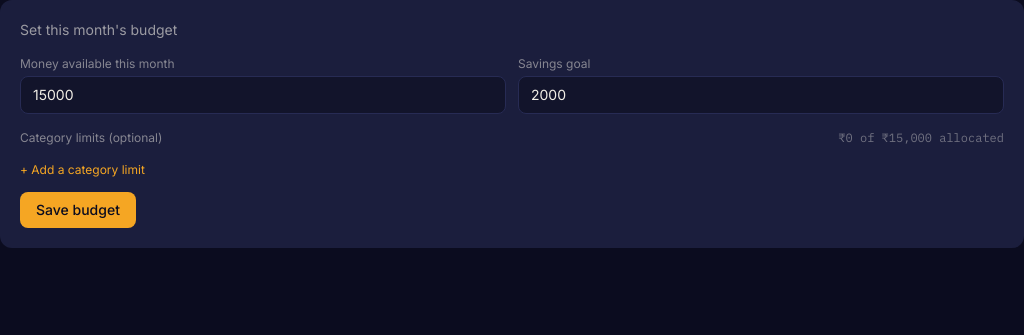
Scenario: BudgetForm › refuses category allocations that exceed the monthly budget
This screenshot has width=1024, height=335.
Replace the text in the number field labelled "Money available this month" with "5000" at (263,95), box [20,76,506,114]
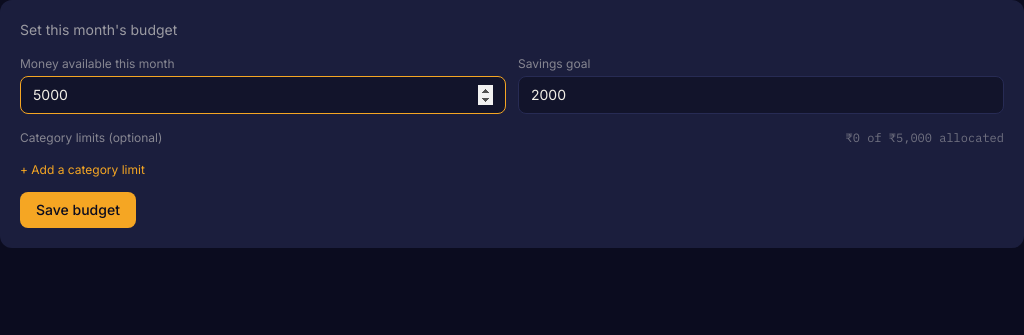
Click the button "+ Add a category limit" at (82,170), box [20,162,145,178]
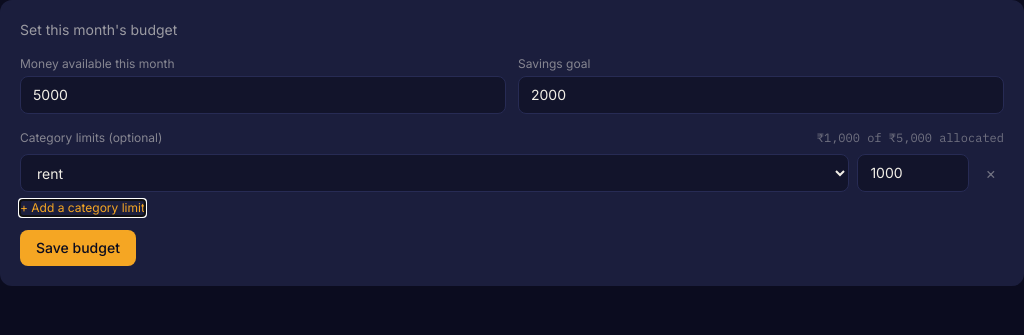
Replace the text in the 3rd number field with "9000" at (913,173), box [857,154,969,192]
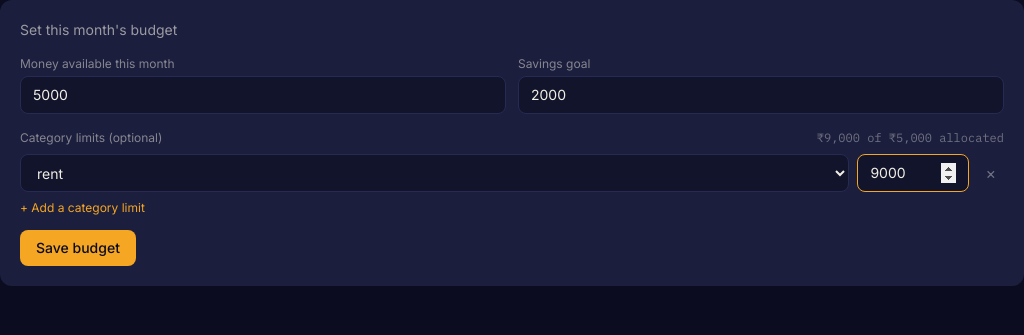
Click the button "Save budget" at (78,248), box [20,230,136,266]
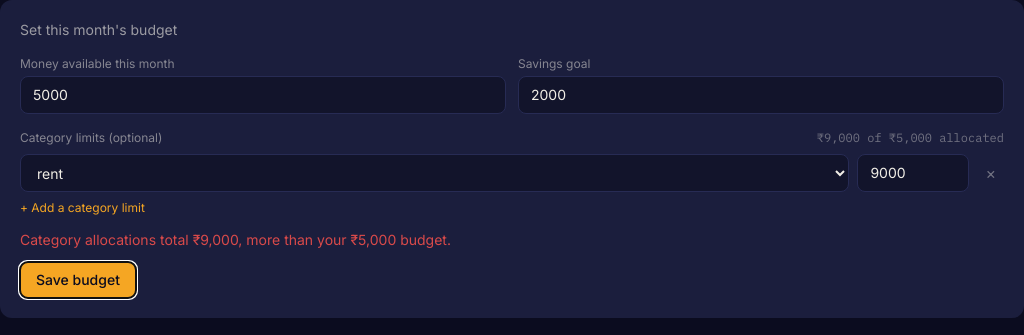
Check: the message reads "Category allocations total ₹9,000, more than your ₹5,000 budget.", box [20,231,451,248]
